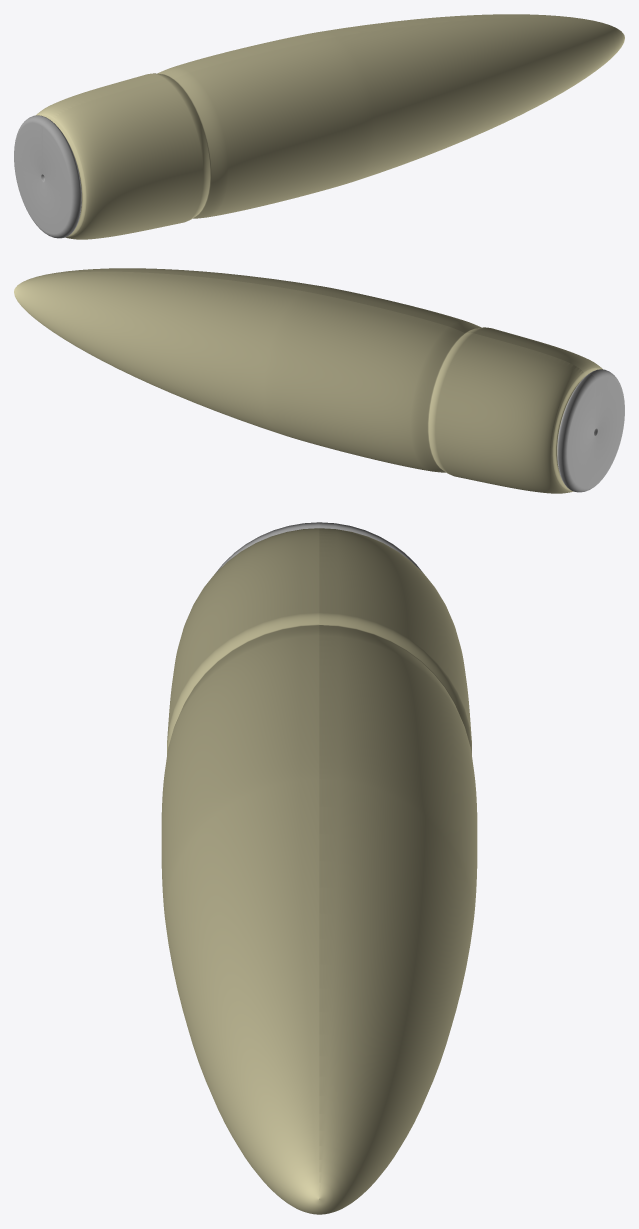
Rendered from bullet.fbx.
3 views of the same model, one above another, from view 1: azimuth 30°, elevation 25°; view 2: azimuth 150°, elevation 25°; view 3: azimuth 270°, elevation 25° (orthographic). The views are drawn at different scales.
Parts seen in each view (by area): view 1: Linie01; view 2: Linie01; view 3: Linie01.
Part boxes in pixels (box(x1,y1,x2,y2)): Linie01: box(14, 14, 624, 239); Linie01: box(14, 268, 624, 493); Linie01: box(161, 522, 477, 1214).
Bounding box in the file's own units: 5.4 × 1.27 × 1.27.
